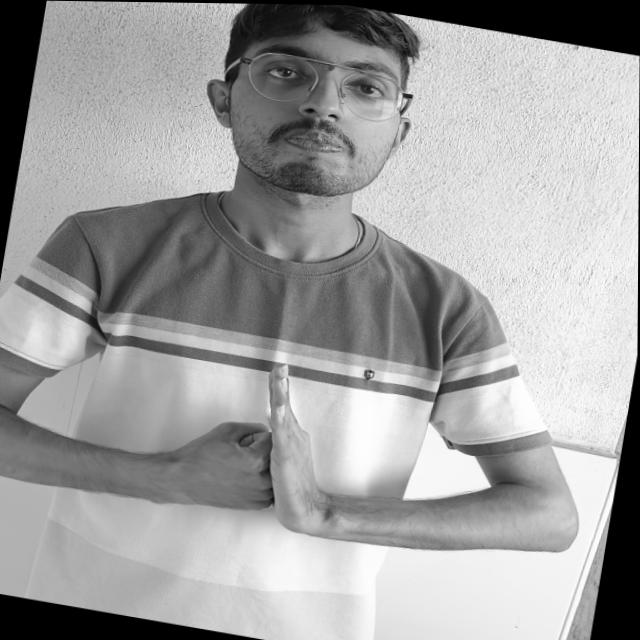Well Done: (90, 299, 449, 585)
